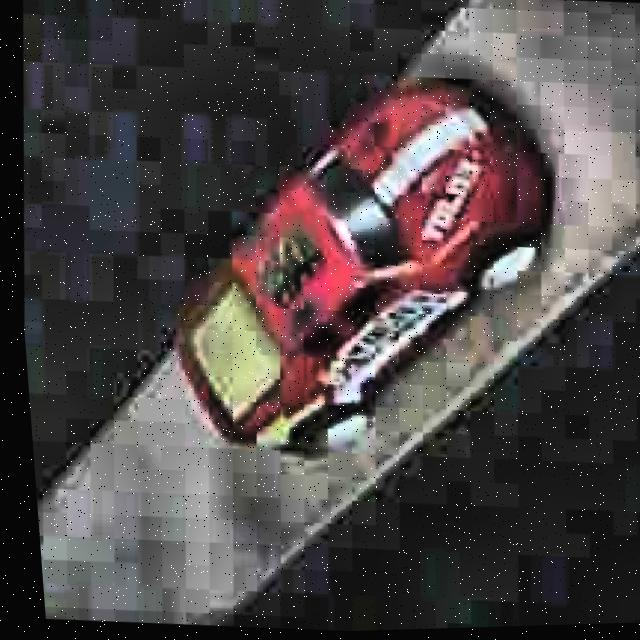car: (140, 53, 583, 484)
